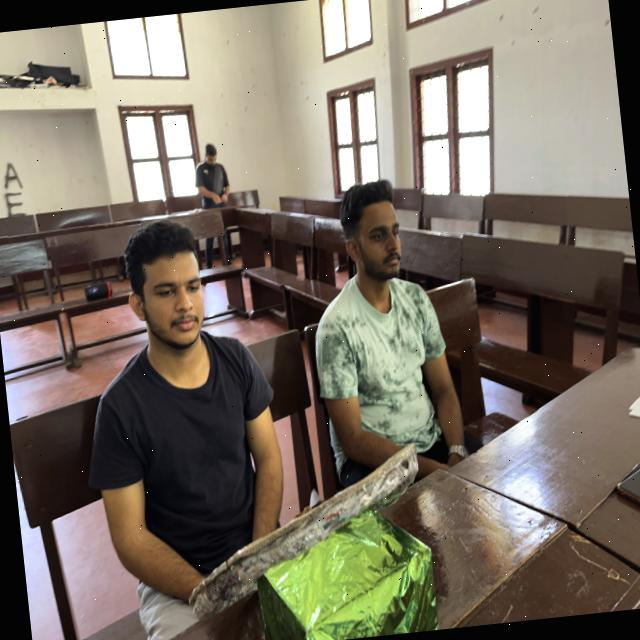no-seatbelt: (80, 336, 299, 616), (302, 272, 478, 498)
